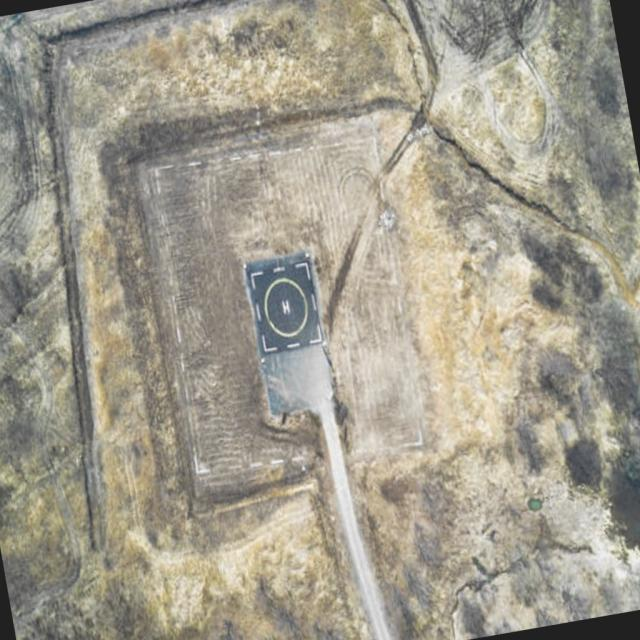helipad: (262, 275, 309, 339)
